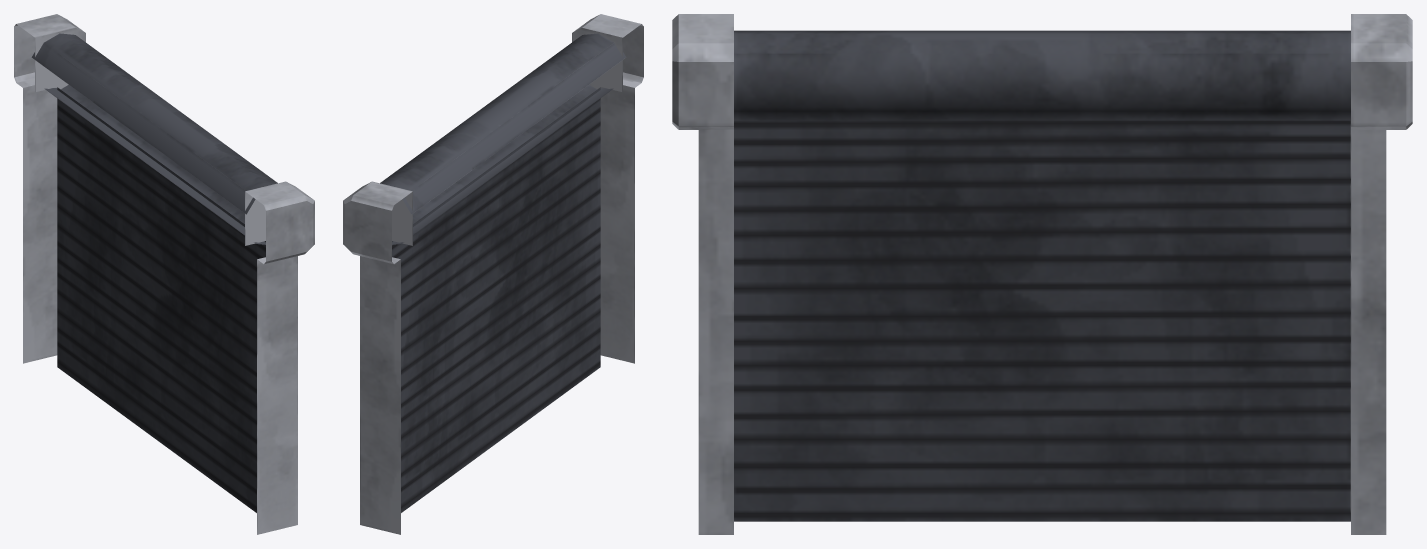
Rendered from Depot.fbx.
3 renders of one model, left to right at view 1: azimuth 30°, elevation 25°; view 2: azimuth 150°, elevation 25°; view 3: azimuth 270°, elevation 25°, orthographic. The views are drawn at different scales.
Parts seen in each view (by area): view 1: Cube.001; view 2: Cube.001; view 3: Cube.001.
Part boxes in pixels (left/top/right/bottom): Cube.001: left=14, top=14, right=314, bottom=534; Cube.001: left=343, top=14, right=643, bottom=534; Cube.001: left=672, top=14, right=1412, bottom=534.
Size of the model in its own units: 65.36 by 402 by 548.
